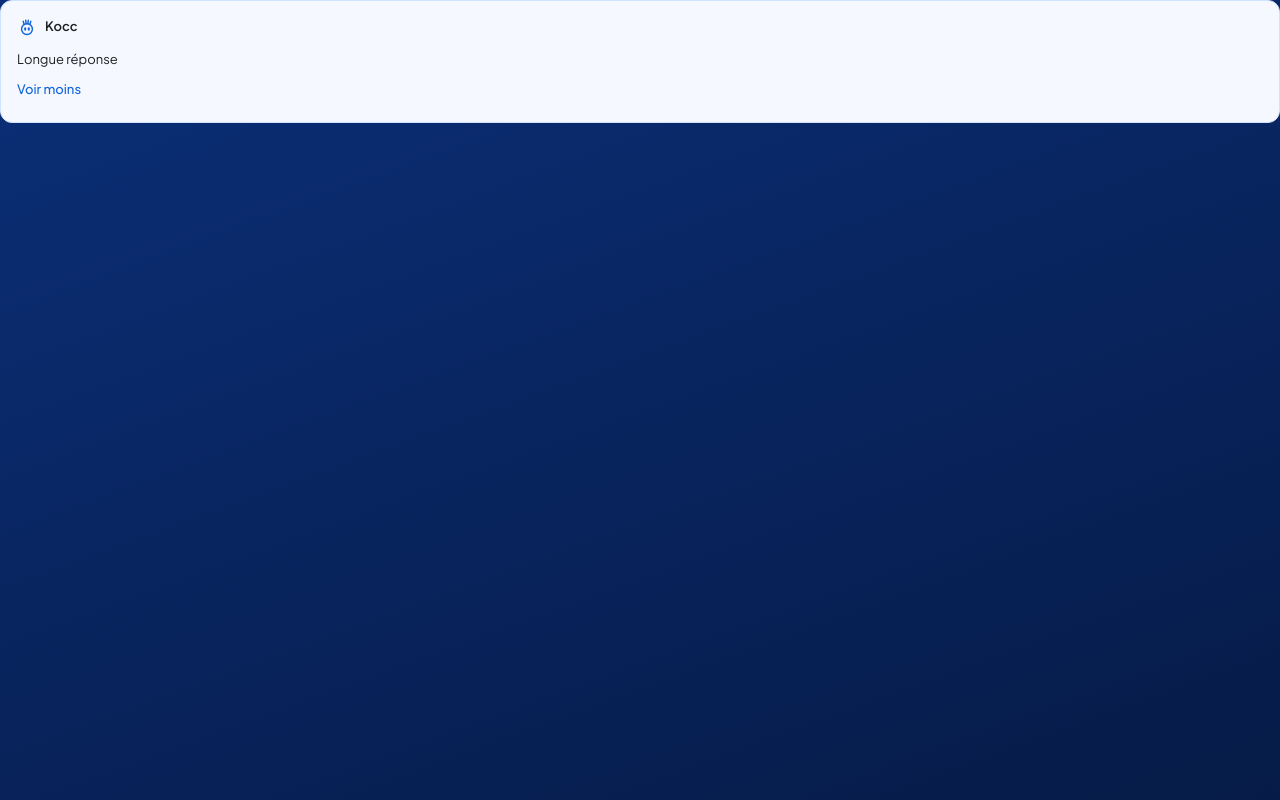
AssistantMessage, réponse longue › montre dépliée la réponse d'un post épinglé, qui peut encore se replier
The width and height of the screenshot is (1280, 800).
What coordinates should you click on to do the following:
click the button "Voir moins"
I would click on:
 (49, 90)
Its box is [17,74,81,106].
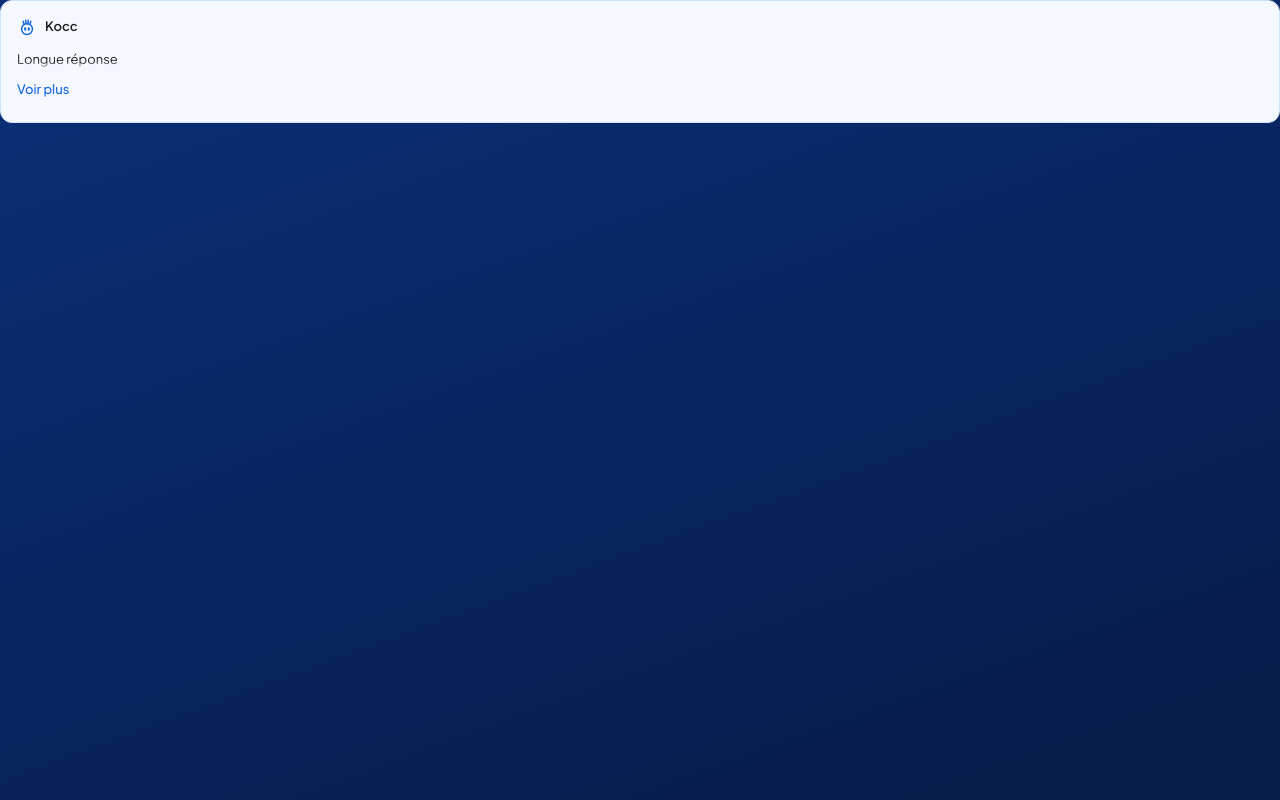
Expected: the button "Voir plus" is shown, [17,74,69,106]
